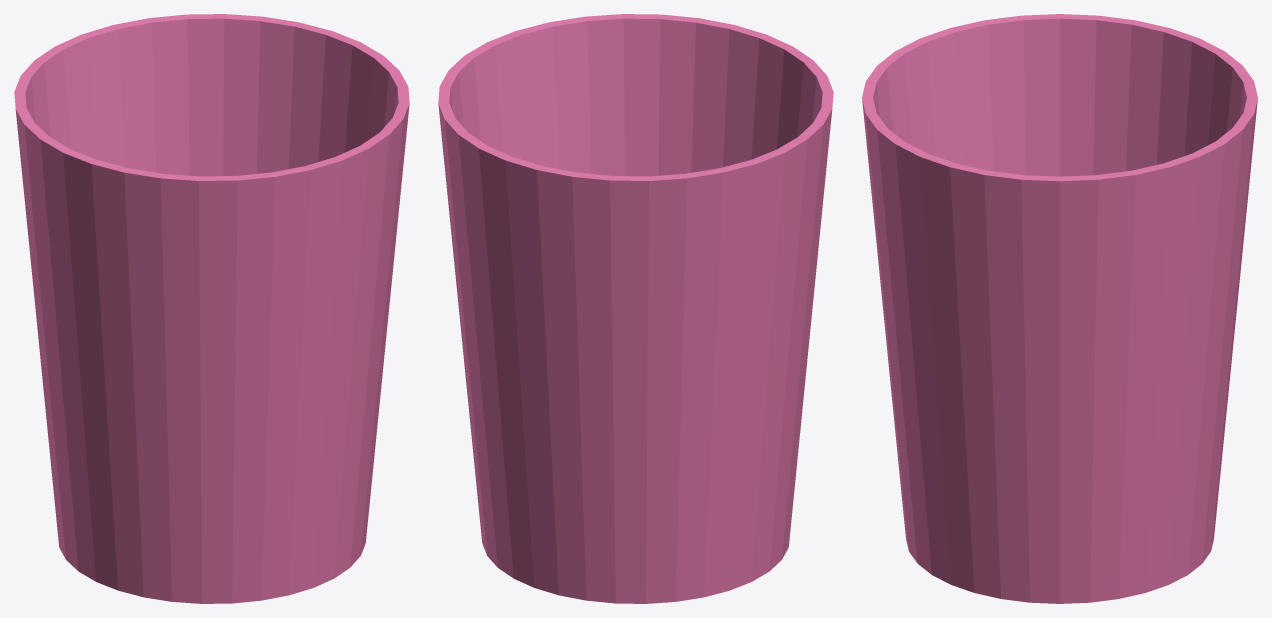
The model's file is Glass Toothbrush_02.fbx.
The picture shows the model from 3 angles, left to right: view 1: azimuth 30°, elevation 25°; view 2: azimuth 150°, elevation 25°; view 3: azimuth 270°, elevation 25°; orthographic projection.
Visible parts, largest first — view 1: Glass Toothbrush_02; view 2: Glass Toothbrush_02; view 3: Glass Toothbrush_02.
Boxes of the visible parts, x1,y1,x2,y2 form: Glass Toothbrush_02: [14, 14, 409, 603]; Glass Toothbrush_02: [438, 14, 833, 603]; Glass Toothbrush_02: [862, 14, 1257, 603].
Size of the model in its own units: 12.45 by 15.3 by 12.45.
